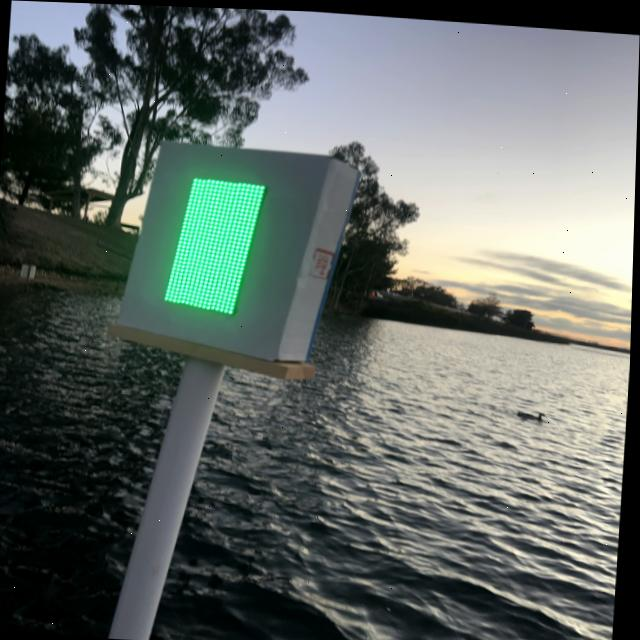led: (155, 159, 289, 333)
